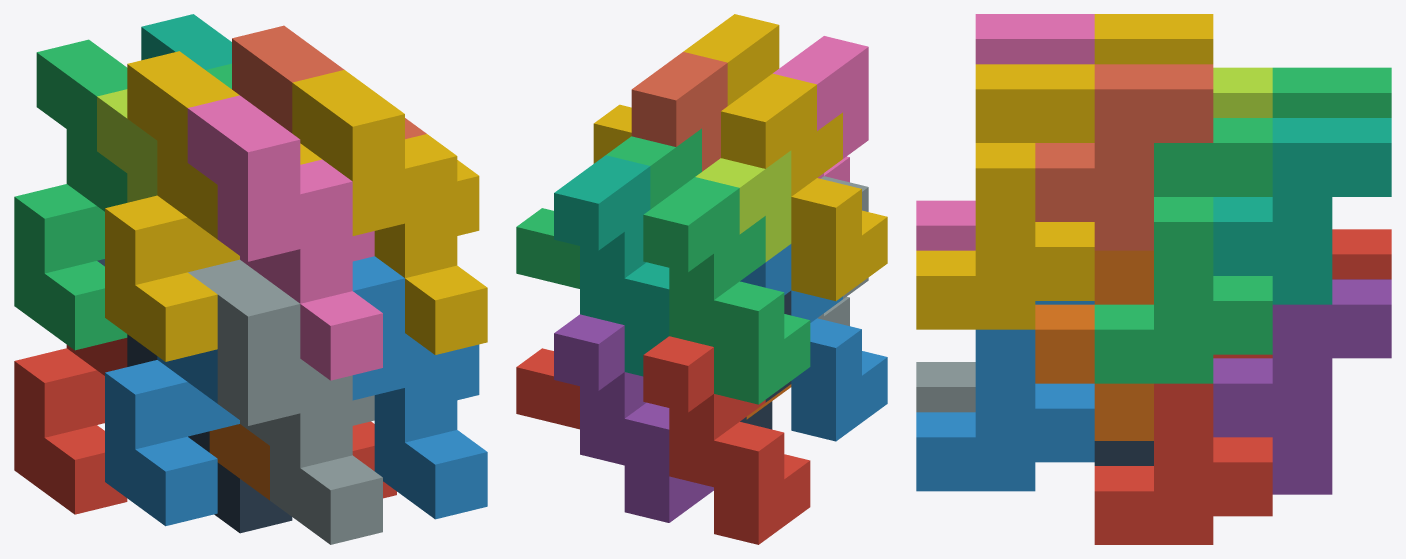
Rendered from tiling.obj.
The picture shows the model from 3 angles, left to right: view 1: azimuth 30°, elevation 25°; view 2: azimuth 150°, elevation 25°; view 3: azimuth 270°, elevation 25°; orthographic projection. The views are drawn at different scales.
Visible parts, largest first — view 1: copy_2_domain_4, copy_2_domain_8, copy_2_domain_2, copy_1_domain_4, copy_1_domain_3, copy_2_domain_6, copy_1_domain_2, copy_1_domain_1, copy_1_domain_8, copy_2_domain_3, copy_2_domain_1, copy_1_domain_7 (+2 smaller); view 2: copy_1_domain_3, copy_1_domain_4, copy_1_domain_1, copy_1_domain_7, copy_1_domain_5, copy_1_domain_2, copy_1_domain_8, copy_2_domain_7, copy_2_domain_4, copy_2_domain_8, copy_2_domain_3, copy_2_domain_5 (+2 smaller); view 3: copy_2_domain_8, copy_2_domain_7, copy_1_domain_5, copy_1_domain_7, copy_1_domain_8, copy_2_domain_6, copy_2_domain_5, copy_1_domain_6, copy_2_domain_4, copy_1_domain_3, copy_1_domain_4, copy_1_domain_1 (+3 smaller).
Boxes of the visible parts, <box> form: copy_2_domain_4: <box>187,95,382,380</box>; copy_2_domain_8: <box>292,70,487,354</box>; copy_2_domain_2: <box>188,259,382,544</box>; copy_1_domain_4: <box>105,51,321,361</box>; copy_1_domain_3: <box>14,39,127,350</box>; copy_2_domain_6: <box>352,256,487,519</box>; copy_1_domain_2: <box>105,349,239,526</box>; copy_1_domain_1: <box>14,338,127,514</box>; copy_1_domain_8: <box>232,25,426,139</box>; copy_2_domain_3: <box>97,89,157,202</box>; copy_2_domain_1: <box>97,259,292,533</box>; copy_1_domain_7: <box>141,14,231,69</box>; copy_1_domain_3: <box>643,177,810,404</box>; copy_1_domain_4: <box>721,73,887,301</box>; copy_1_domain_1: <box>643,336,810,544</box>; copy_1_domain_7: <box>554,155,669,376</box>; copy_1_domain_5: <box>554,314,713,522</box>; copy_1_domain_2: <box>740,244,887,441</box>; copy_1_domain_8: <box>631,52,727,171</box>; copy_2_domain_7: <box>516,128,701,288</box>; copy_2_domain_4: <box>773,36,868,182</box>; copy_2_domain_8: <box>593,14,779,163</box>; copy_2_domain_3: <box>695,150,791,261</box>; copy_2_domain_5: <box>516,348,579,429</box>; copy_2_domain_8: <box>916,64,1094,329</box>; copy_2_domain_7: <box>1094,118,1272,383</box>; copy_1_domain_5: <box>1213,279,1391,494</box>; copy_1_domain_7: <box>1213,118,1391,304</box>; copy_1_domain_8: <box>1035,64,1213,250</box>; copy_2_domain_6: <box>916,301,1094,491</box>; copy_2_domain_5: <box>1094,354,1272,544</box>; copy_1_domain_6: <box>1035,250,1153,440</box>; copy_2_domain_4: <box>916,14,1094,250</box>; copy_1_domain_3: <box>1272,67,1391,117</box>; copy_1_domain_4: <box>1094,14,1213,64</box>; copy_1_domain_1: <box>1332,229,1391,279</box>.
Bounding box in the file's own units: 6 × 8 × 8.
